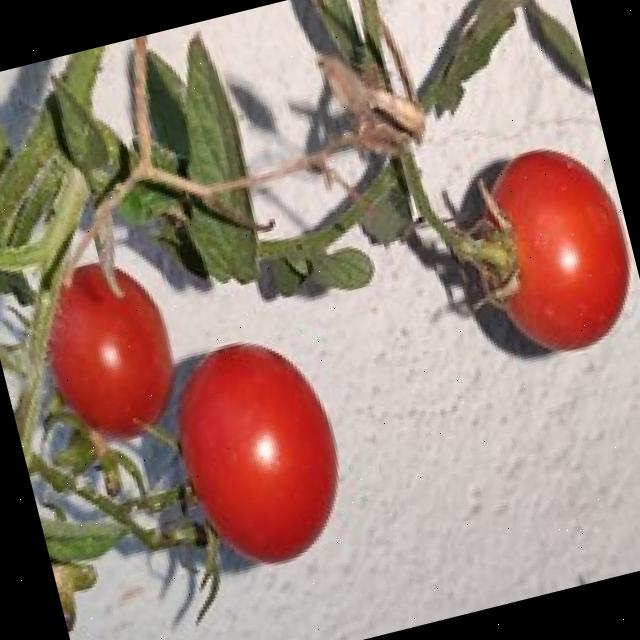tomato: (180, 343, 335, 561), (492, 149, 627, 349), (48, 262, 172, 437)
